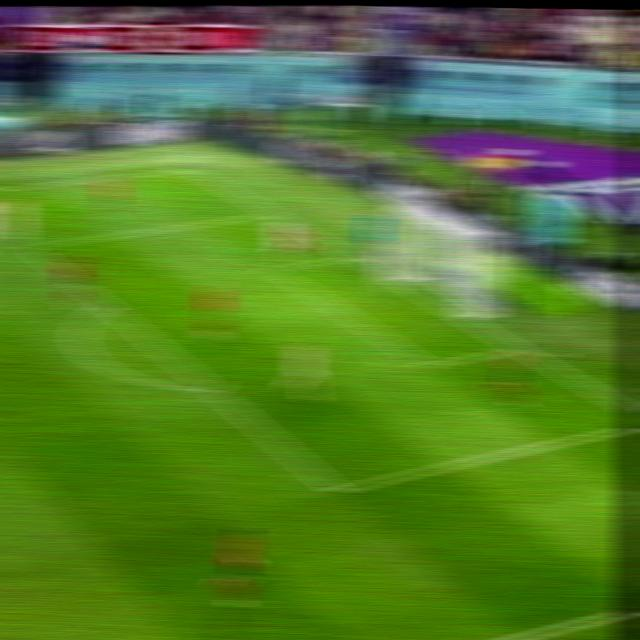bigarea_bottom_inner: (320, 474, 353, 503)
bigarea_top_inner: (14, 234, 42, 257)
bigarea_top_outter: (257, 205, 285, 221)
bottom_arc_area_intersection: (197, 377, 226, 399)
corner: (173, 160, 202, 175)
smallarea_bottom_inner: (410, 350, 444, 377)
smallarea_top_inner: (257, 256, 287, 279)
smallarea_top_outter: (336, 247, 365, 264)
top_arc_area_intersection: (91, 293, 119, 314)
